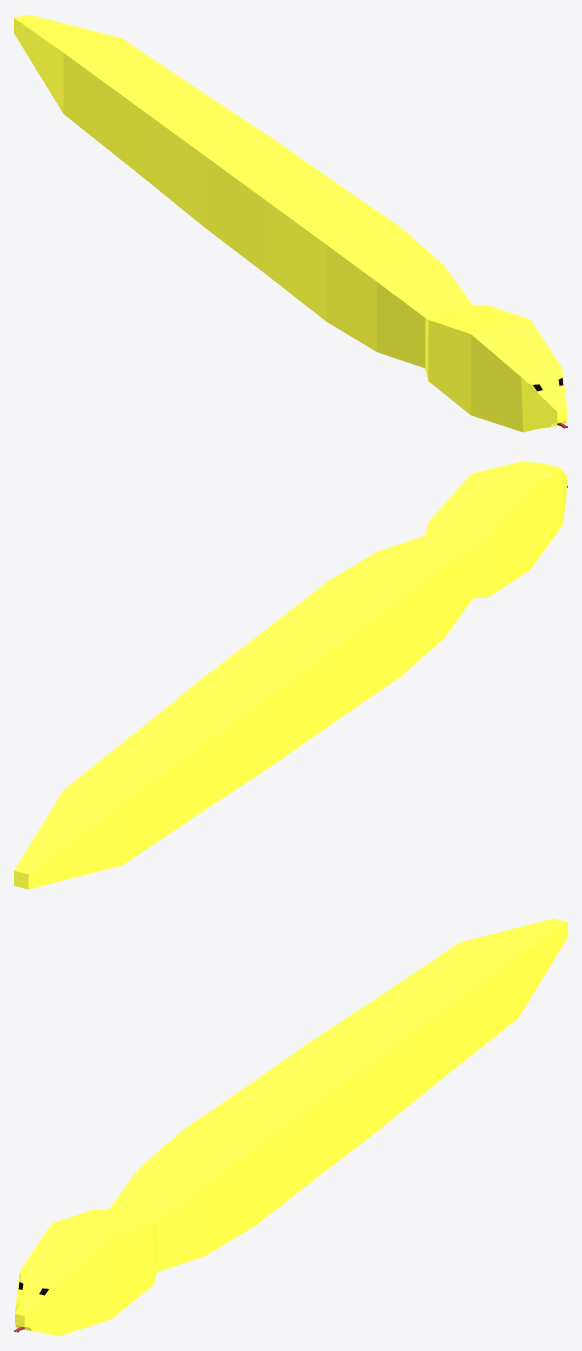
The model's file is obj_snake4.fbx.
The picture shows the model from 3 angles, top to bottom: view 1: azimuth 30°, elevation 25°; view 2: azimuth 150°, elevation 25°; view 3: azimuth 330°, elevation 25°; orthographic projection.
Visible parts, largest first — view 1: char_snake4; view 2: char_snake4; view 3: char_snake4.
Part boxes in pixels (x1,y1,x2,y2): char_snake4: (14, 14, 567, 432); char_snake4: (14, 461, 567, 889); char_snake4: (14, 918, 567, 1336).
Size of the model in its own units: 219 by 246 by 2809.
